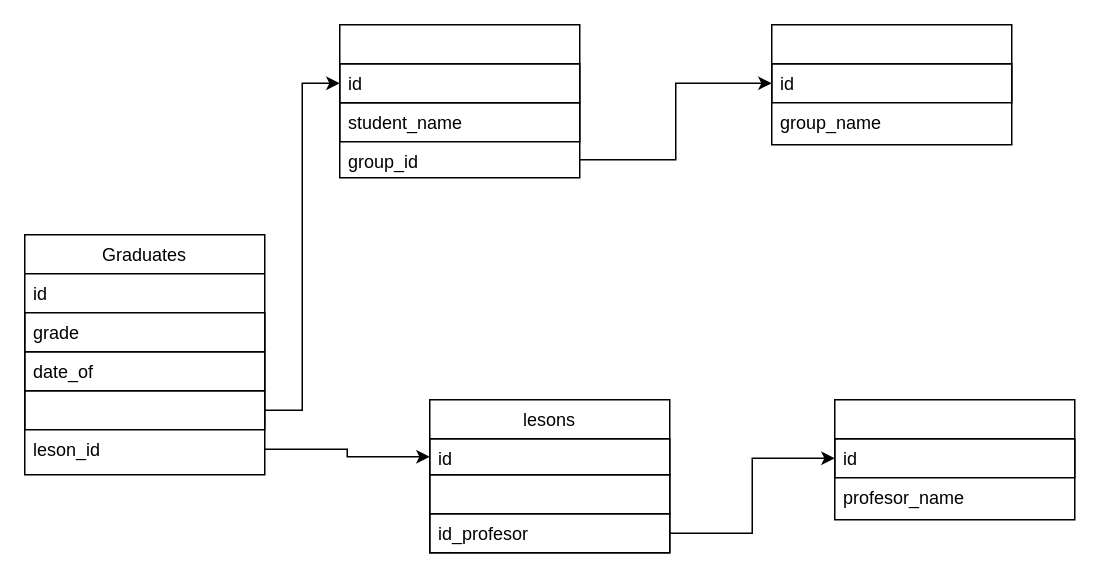
Image size: 1100x578. Some labels were removed from this diagram. The box of each missing label's shape, as (x1, y1, x2, y2) in pixels:
Groups: (770, 23, 1012, 145)
leson_name: (428, 473, 670, 514)
Professors: (833, 398, 1075, 520)
student_id: (23, 389, 265, 430)
Students: (338, 23, 580, 178)
